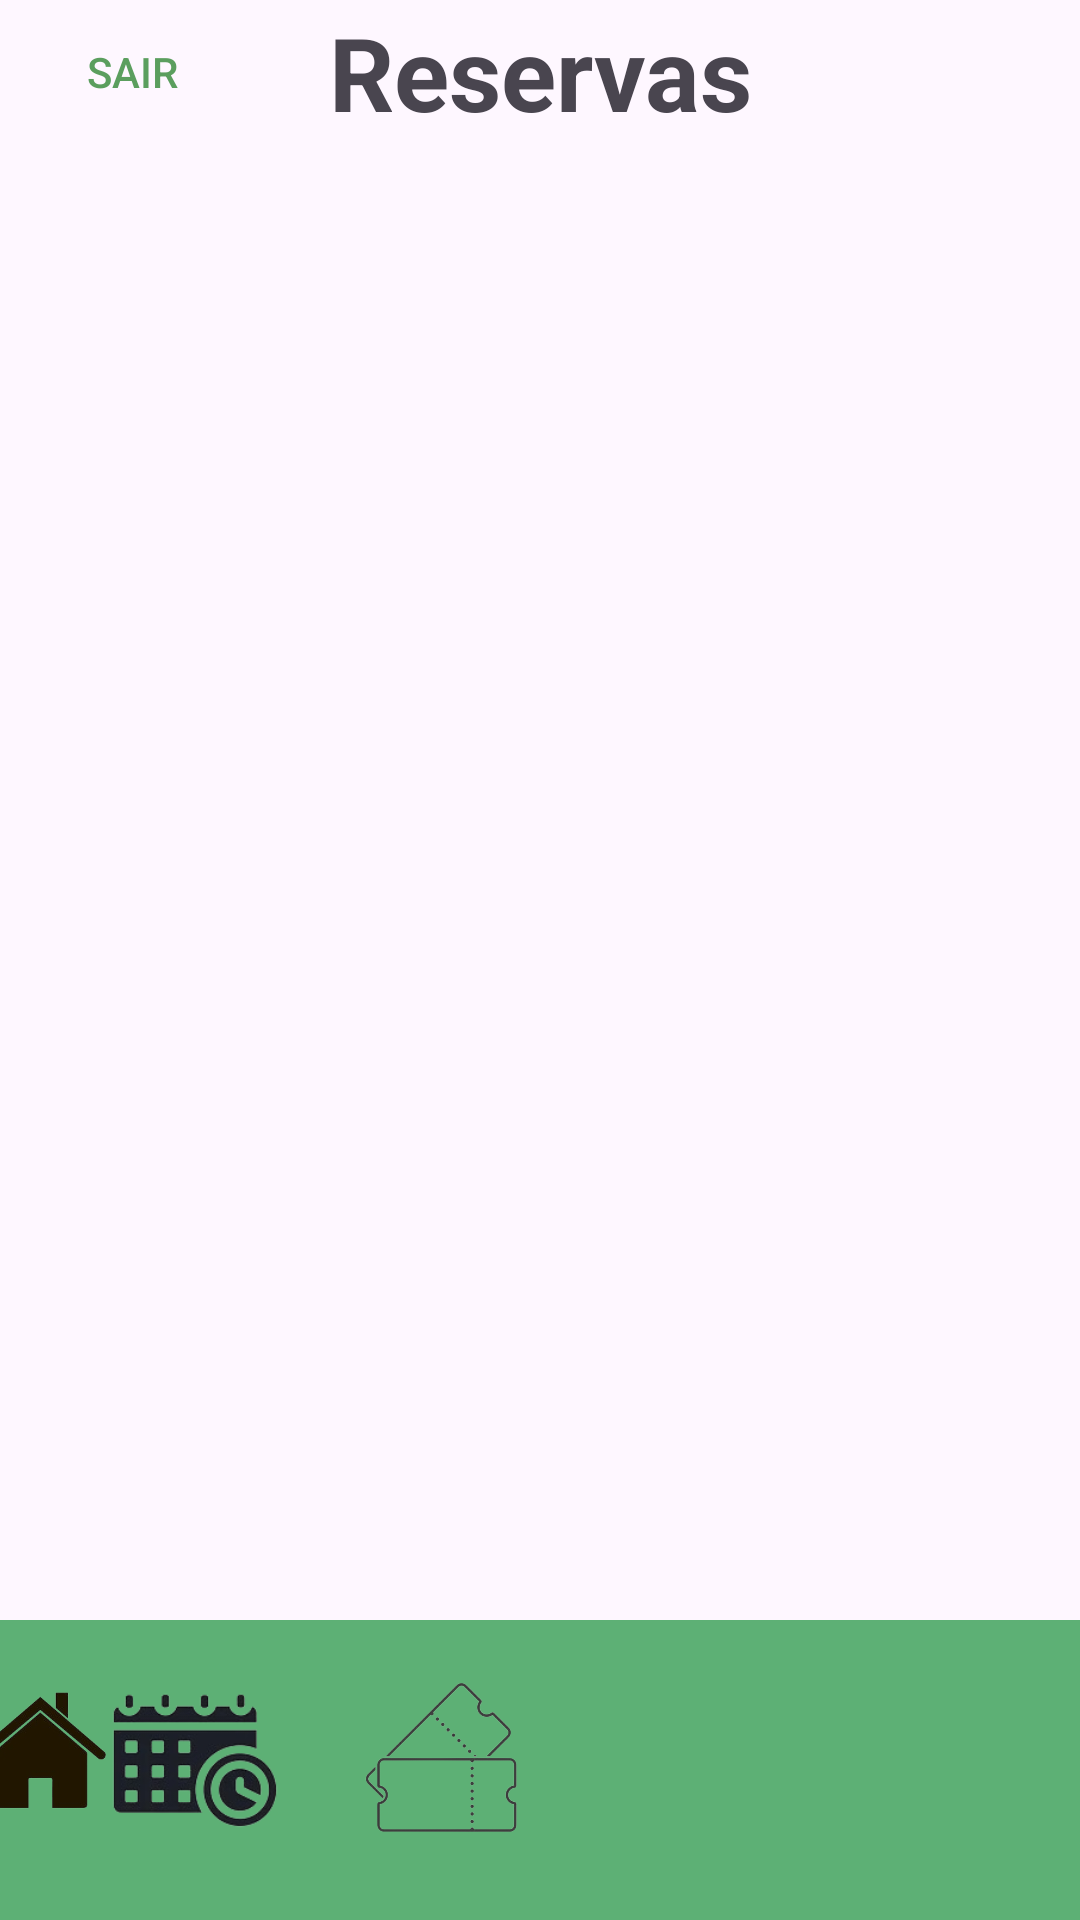

Where to tap for icons on this 1080 × 1920 app screen, as [x,y]:
reserva: [195,1760]
ticket: [441,1757]
